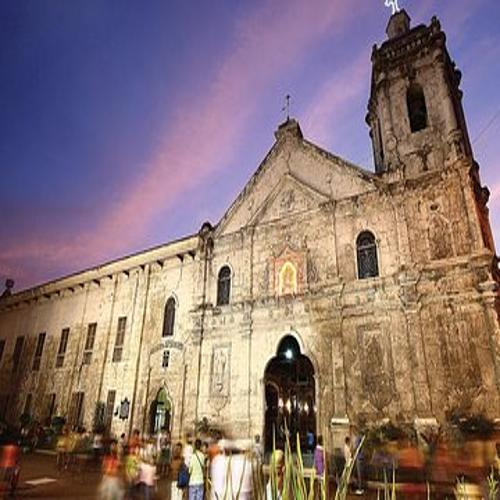Sto. Nino Basilica Church: (199, 2, 500, 479)
